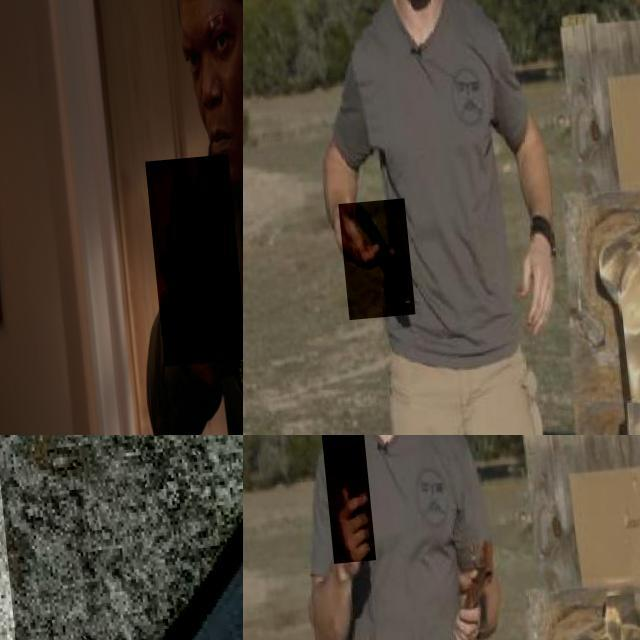-: (330, 204, 406, 324), (312, 435, 369, 568)
gun-knife-thesis - v11 Yolov5 augmented: (0, 435, 243, 640), (139, 162, 237, 372)
